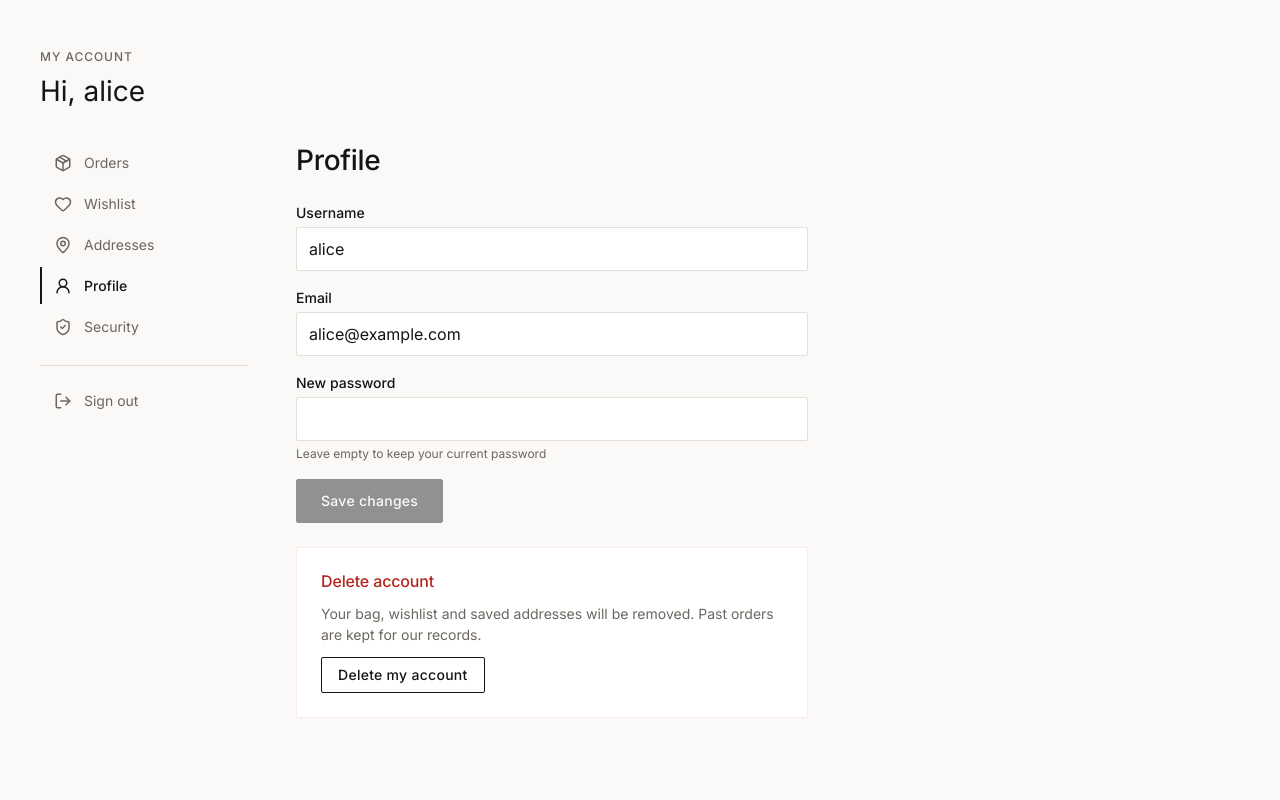
it: AccountPage › asks for the current password before changing the email
Replace the text in the field labelled "Email" with "new@example.com" at (552, 334), box [296,312,808,356]
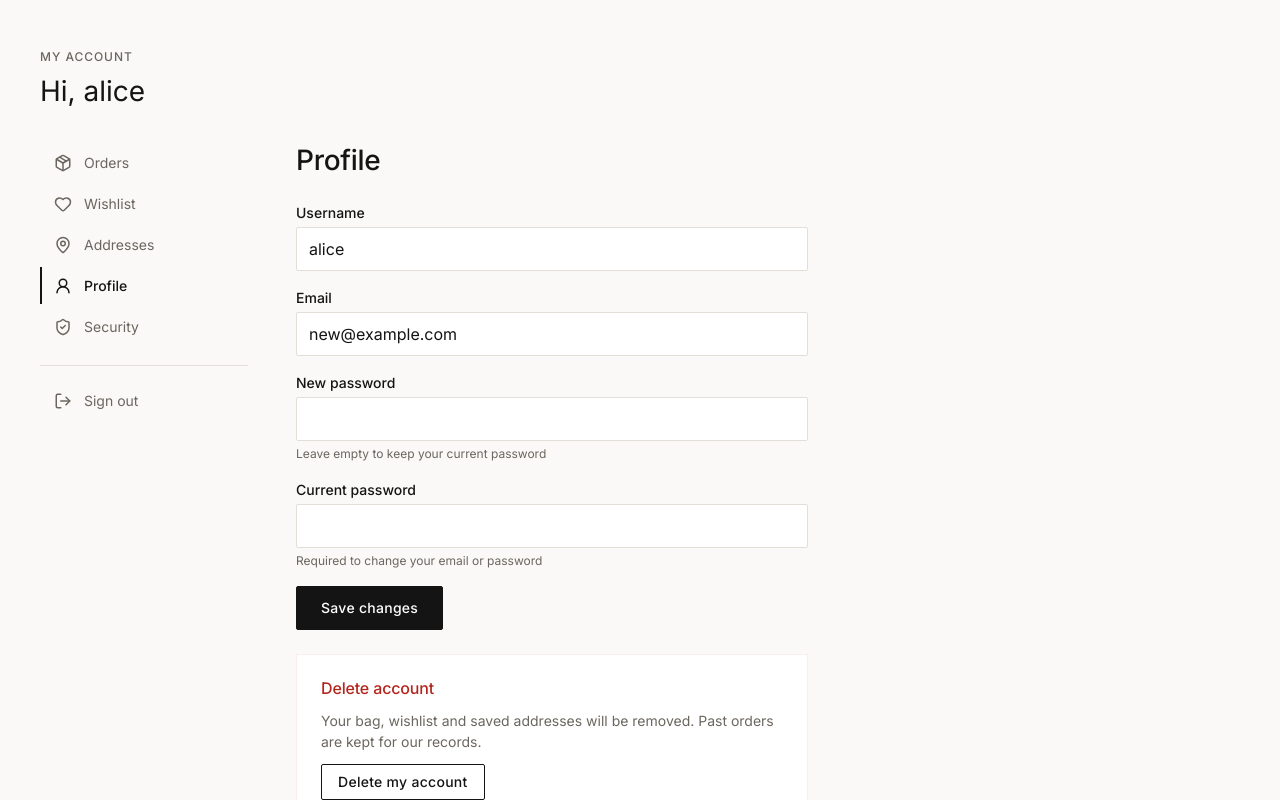
Type "password123" into the password field labelled "Current password" at (552, 526), box [296,504,808,548]
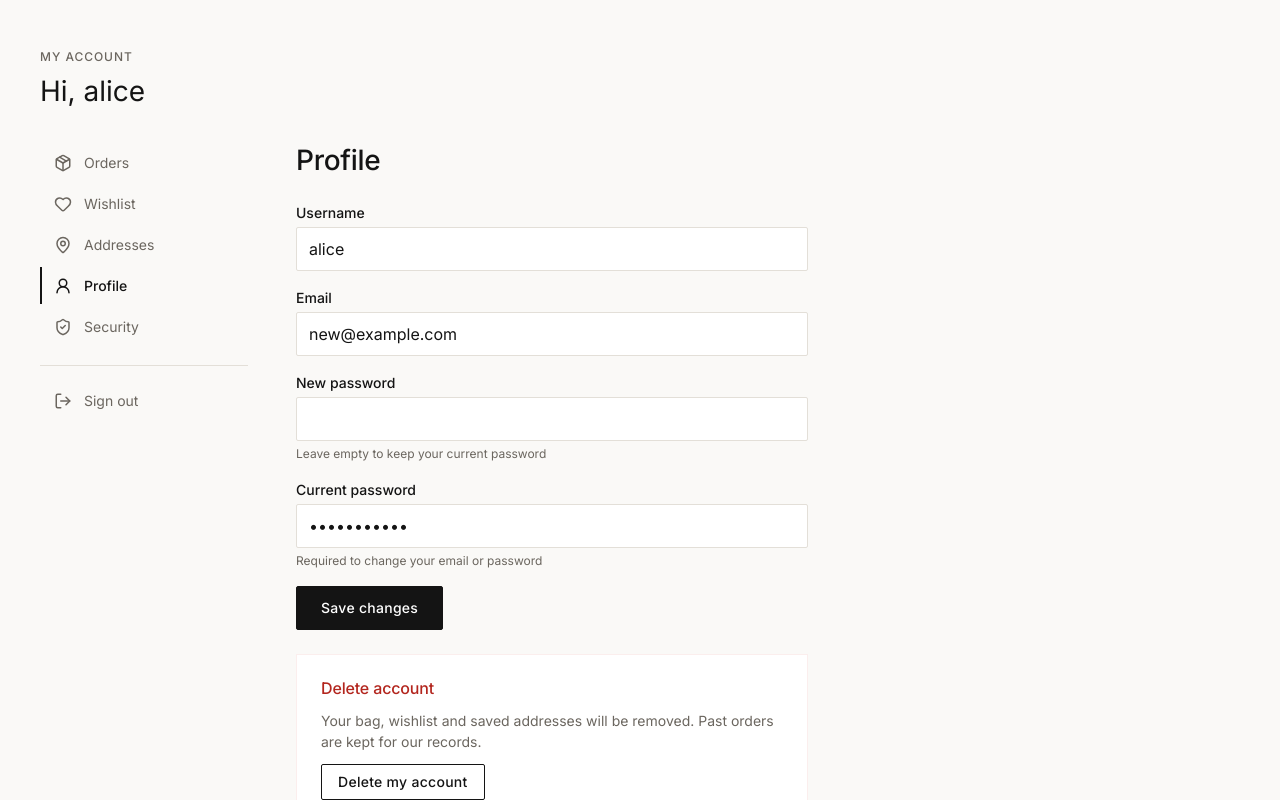
Click the button "Save changes" at (370, 608), box [296,586,443,630]
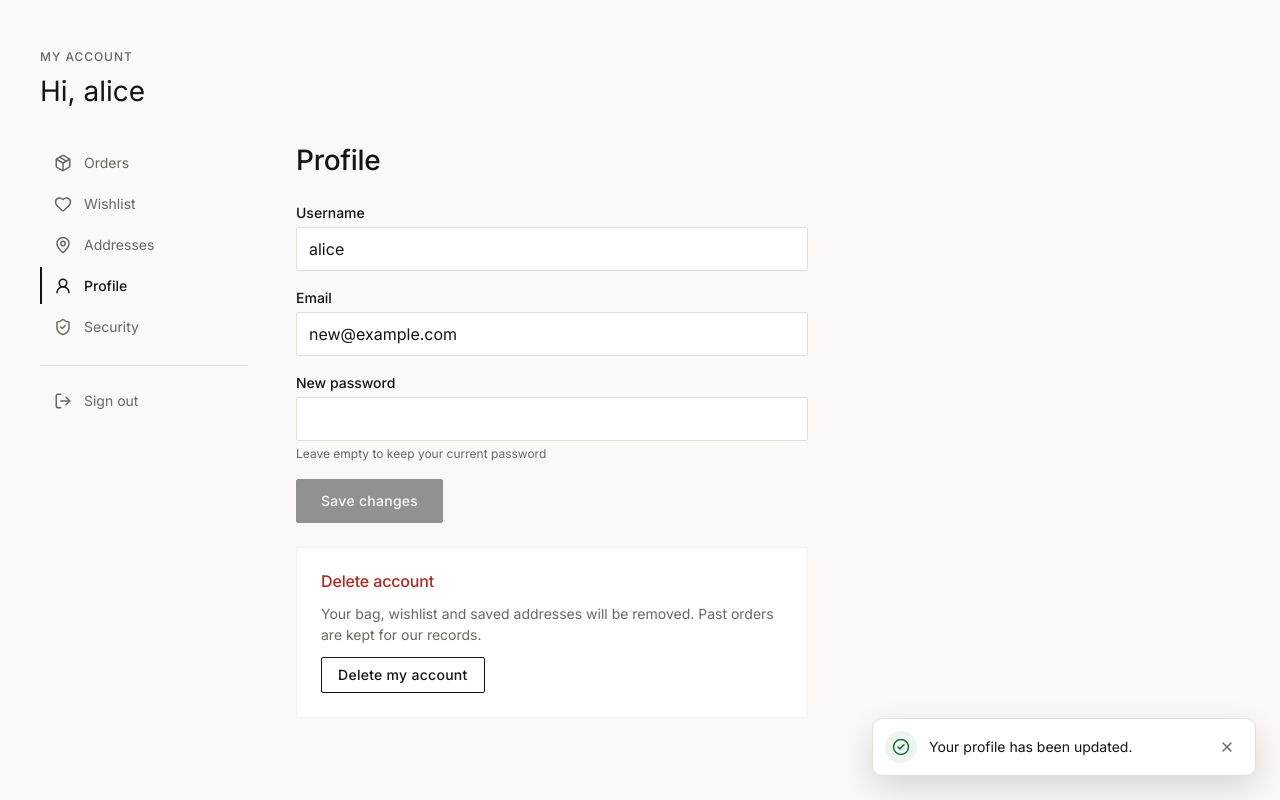
Expected: the text "Your profile has been updated." is shown, [929,738,1132,755]
